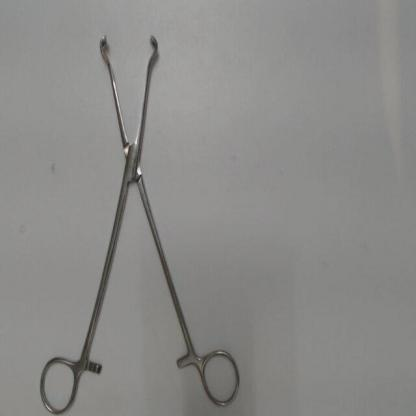8 Babcock Tissue Forceps: (37, 28, 244, 415)
